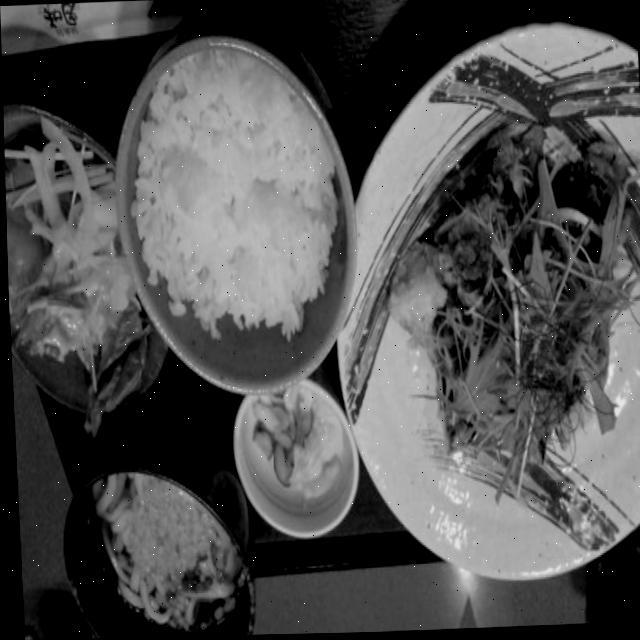米饭主食: (111, 39, 364, 381)
蔬菜料理: (3, 121, 142, 413)
面条主食: (45, 461, 242, 633)
